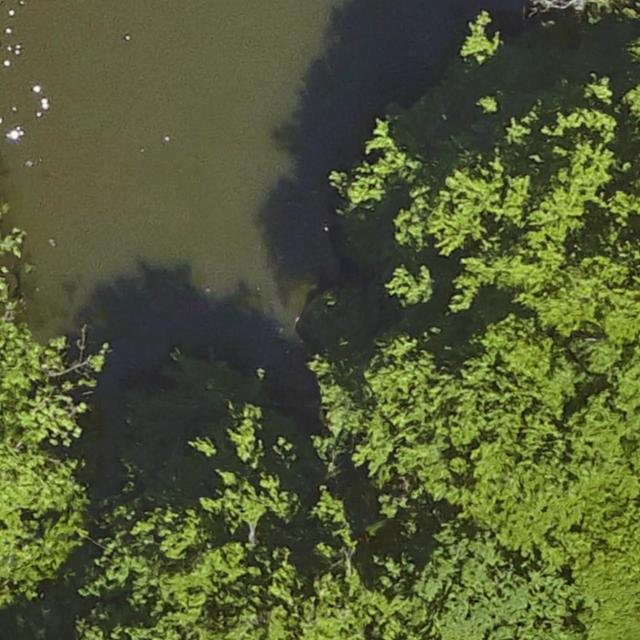tree: (334, 0, 640, 527), (107, 375, 587, 640), (0, 295, 112, 640)
